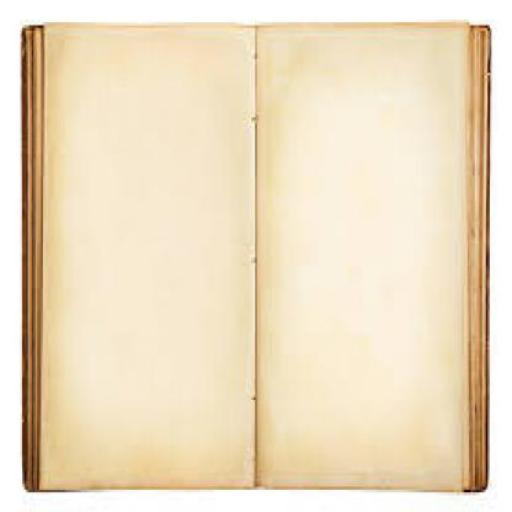paper: (22, 23, 490, 498), (45, 26, 259, 496), (258, 26, 469, 496)
